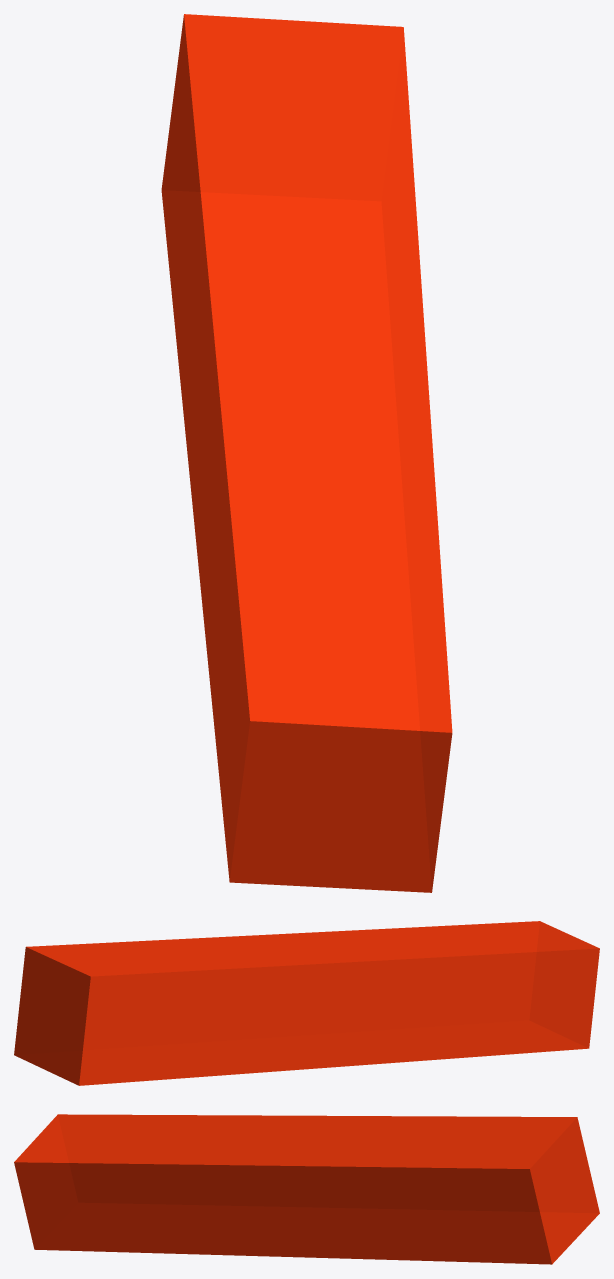
File: Event_421127236_EBrechit_44.fbx
3 views of the same model, one above another, from view 1: azimuth 30°, elevation 25°; view 2: azimuth 150°, elevation 25°; view 3: azimuth 270°, elevation 25° (orthographic). The views are drawn at different scales.
Visible parts, largest first — view 1: Model; view 2: Model; view 3: Model.
Part boxes in pixels (x1,y1,x2,y2): Model: (161,14,452,892); Model: (14,921,599,1085); Model: (14,1114,599,1264).
Bounding box in the file's own units: 0.2025 × 0.1266 × 0.3285.
